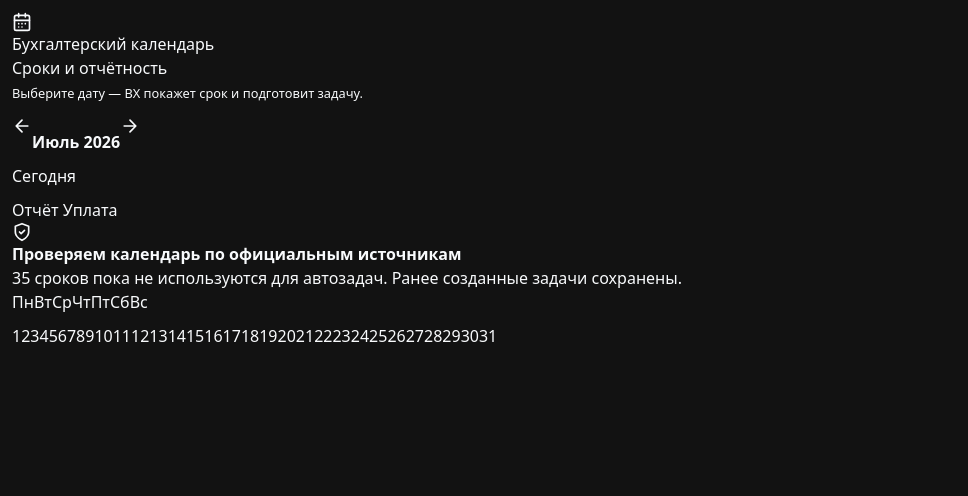
TaxCalendar dashboard module › opens an honest empty date and supports month navigation
The width and height of the screenshot is (968, 496).
Click the button named "20 Июль". click: (287, 336)
box: [278, 314, 296, 358]
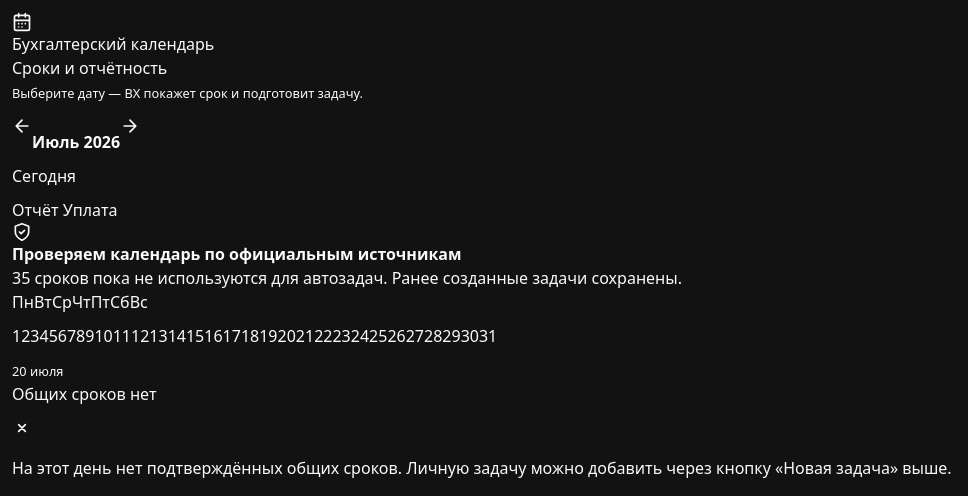
Result: the heading "Общих сроков нет" is shown at [12, 383, 157, 405]
Result: the text "Личную задачу можно добавить" is shown at [12, 457, 952, 479]
Click the button named "Следующий месяц". click: (130, 126)
box: [120, 104, 140, 148]
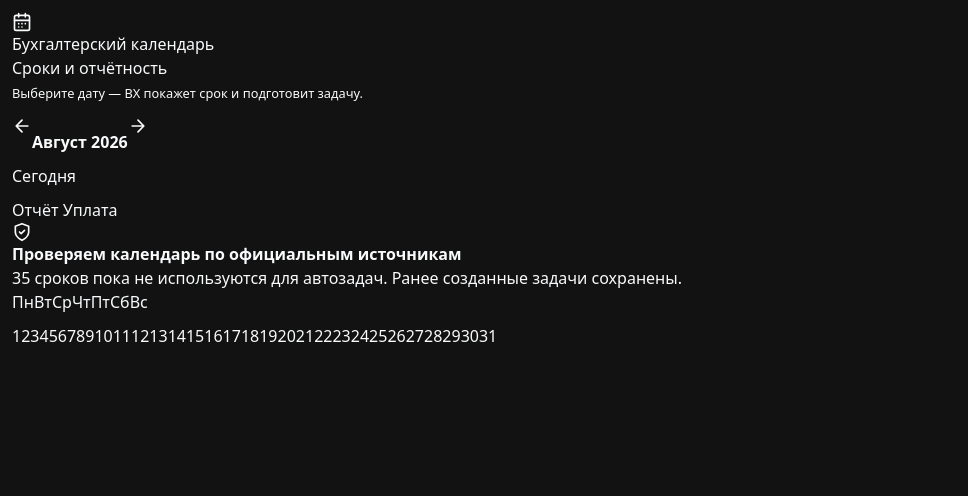
Result: the text "Август" is shown at [32, 131, 87, 153]
